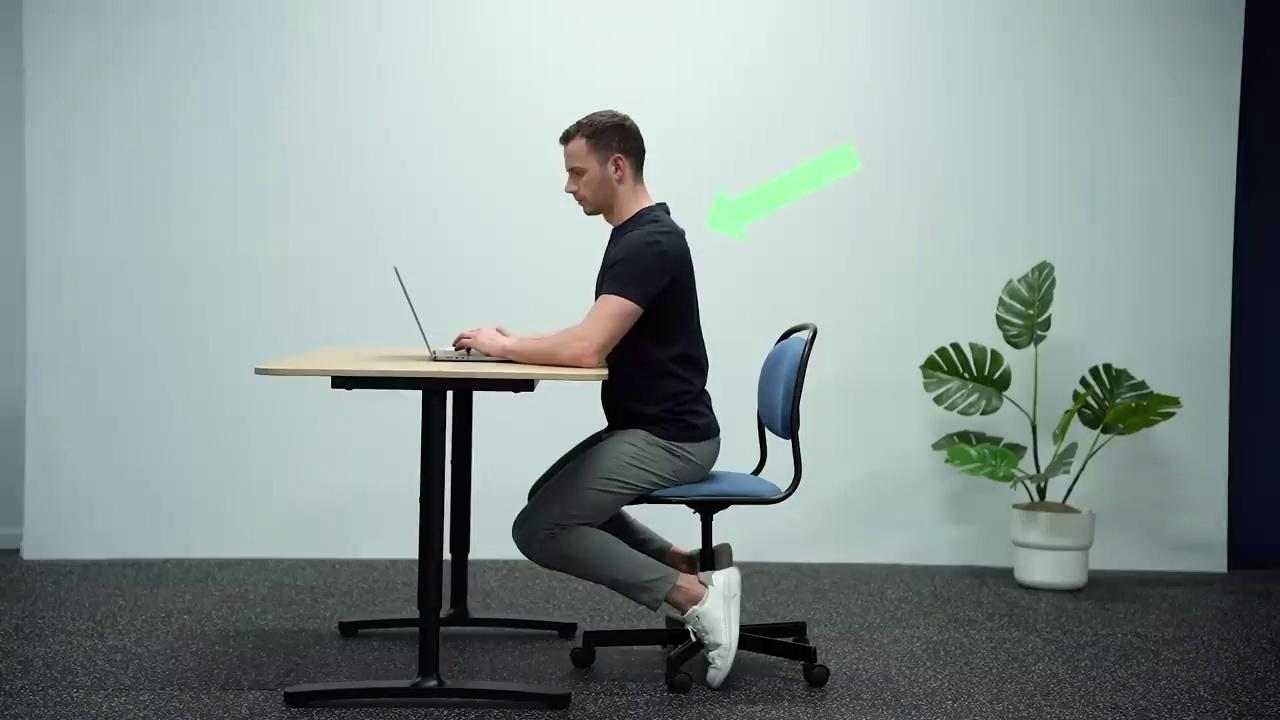GoodPosture: (453, 110, 741, 688)
